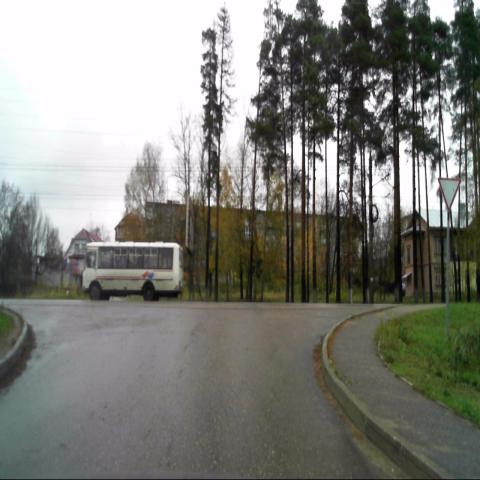2_4: (437, 176, 462, 214)
